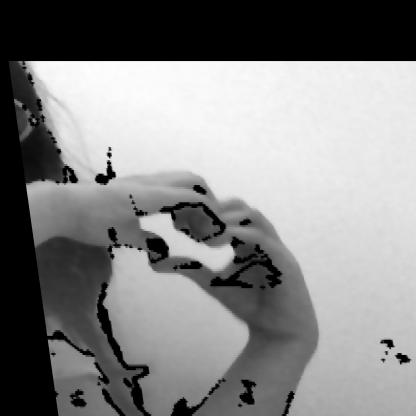heart: (76, 160, 313, 356)
